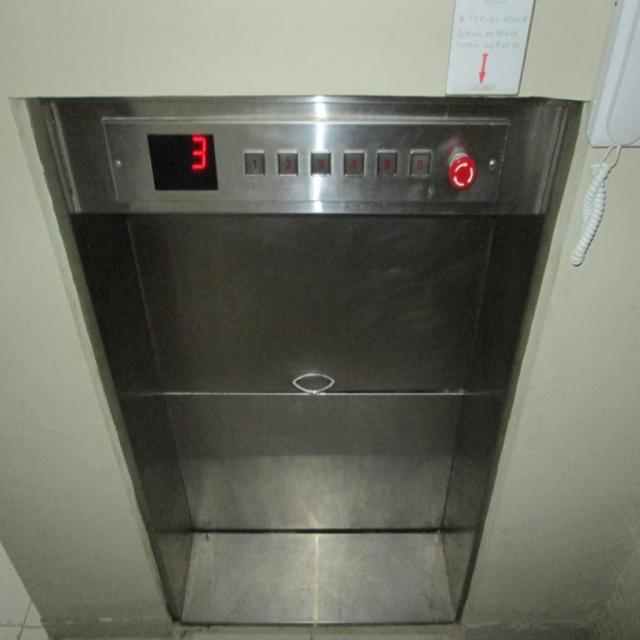1: (242, 146, 266, 178)
2: (276, 146, 300, 176)
3: (308, 146, 334, 178)
4: (342, 148, 366, 180)
5: (374, 147, 398, 178)
6: (408, 148, 432, 178)
empty: (446, 148, 476, 192)
led: (144, 130, 221, 193)
